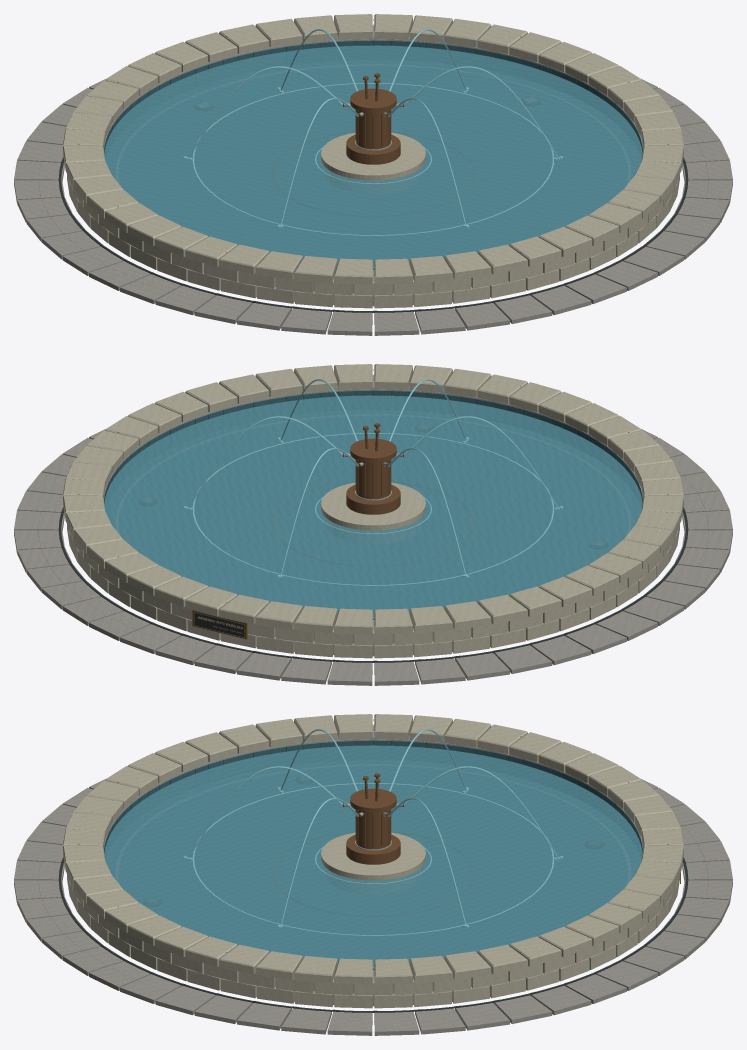
3 renders of one model, top to bottom at view 1: azimuth 30°, elevation 25°; view 2: azimuth 150°, elevation 25°; view 3: azimuth 270°, elevation 25°, orthographic.
Visible parts, largest first — view 1: VIS_Water_Surface__WATER, VIS_Ceramic_Basin_Floor__BASIN_TILE, VIS_Coping_Blocks__LIMESTONE, VIS_Plaza_Paving__PAVER, VIS_Stone_Facing_Courses__LIMESTONE, VIS_Inner_Wall_Liner__BASIN_TILE, VIS_Central_Pedestal_Cap__LIMESTONE, VIS_Flowing_Water_Arcs__SPLASH, VIS_Outer_Radial_Drain_Grille__DARK_STEEL, VIS_Inner_Tile_Finishing_Band__STEEL, VIS_Quiet_Ripple_Two__SPLASH, VIS_Bronze_Tapered_Column__BRONZE (+4 smaller); view 2: VIS_Water_Surface__WATER, VIS_Ceramic_Basin_Floor__BASIN_TILE, VIS_Coping_Blocks__LIMESTONE, VIS_Plaza_Paving__PAVER, VIS_Stone_Facing_Courses__LIMESTONE, VIS_Inner_Wall_Liner__BASIN_TILE, VIS_Central_Pedestal_Cap__LIMESTONE, VIS_Flowing_Water_Arcs__SPLASH, VIS_Outer_Radial_Drain_Grille__DARK_STEEL, VIS_Inner_Tile_Finishing_Band__STEEL, VIS_Quiet_Ripple_Two__SPLASH, VIS_Bronze_Tapered_Column__BRONZE (+5 smaller); view 3: VIS_Water_Surface__WATER, VIS_Ceramic_Basin_Floor__BASIN_TILE, VIS_Coping_Blocks__LIMESTONE, VIS_Plaza_Paving__PAVER, VIS_Stone_Facing_Courses__LIMESTONE, VIS_Inner_Wall_Liner__BASIN_TILE, VIS_Central_Pedestal_Cap__LIMESTONE, VIS_Flowing_Water_Arcs__SPLASH, VIS_Outer_Radial_Drain_Grille__DARK_STEEL, VIS_Inner_Tile_Finishing_Band__STEEL, VIS_Quiet_Ripple_Two__SPLASH, VIS_Bronze_Tapered_Column__BRONZE (+4 smaller).
Part boxes in pixels (bbox=[...]): VIS_Water_Surface__WATER: bbox=[104, 45, 642, 267]; VIS_Ceramic_Basin_Floor__BASIN_TILE: bbox=[106, 60, 640, 266]; VIS_Coping_Blocks__LIMESTONE: bbox=[63, 14, 683, 284]; VIS_Plaza_Paving__PAVER: bbox=[14, 79, 732, 335]; VIS_Stone_Facing_Courses__LIMESTONE: bbox=[67, 24, 679, 308]; VIS_Inner_Wall_Liner__BASIN_TILE: bbox=[104, 37, 642, 269]; VIS_Central_Pedestal_Cap__LIMESTONE: bbox=[321, 132, 425, 180]; VIS_Flowing_Water_Arcs__SPLASH: bbox=[188, 29, 558, 225]; VIS_Outer_Radial_Drain_Grille__DARK_STEEL: bbox=[58, 157, 688, 312]; VIS_Inner_Tile_Finishing_Band__STEEL: bbox=[103, 38, 643, 268]; VIS_Quiet_Ripple_Two__SPLASH: bbox=[192, 83, 554, 235]; VIS_Bronze_Tapered_Column__BRONZE: bbox=[356, 110, 390, 149]; VIS_Water_Surface__WATER: bbox=[104, 395, 642, 617]; VIS_Ceramic_Basin_Floor__BASIN_TILE: bbox=[106, 410, 640, 616]; VIS_Coping_Blocks__LIMESTONE: bbox=[63, 364, 683, 634]; VIS_Plaza_Paving__PAVER: bbox=[14, 429, 732, 685]; VIS_Stone_Facing_Courses__LIMESTONE: bbox=[67, 374, 679, 658]; VIS_Inner_Wall_Liner__BASIN_TILE: bbox=[104, 387, 642, 619]; VIS_Central_Pedestal_Cap__LIMESTONE: bbox=[321, 482, 425, 530]; VIS_Flowing_Water_Arcs__SPLASH: bbox=[188, 379, 558, 575]; VIS_Outer_Radial_Drain_Grille__DARK_STEEL: bbox=[58, 507, 688, 662]; VIS_Inner_Tile_Finishing_Band__STEEL: bbox=[103, 388, 643, 618]; VIS_Quiet_Ripple_Two__SPLASH: bbox=[192, 433, 554, 585]; VIS_Bronze_Tapered_Column__BRONZE: bbox=[356, 460, 390, 499]; VIS_Water_Surface__WATER: bbox=[104, 745, 642, 967]; VIS_Ceramic_Basin_Floor__BASIN_TILE: bbox=[106, 760, 640, 959]; VIS_Coping_Blocks__LIMESTONE: bbox=[63, 714, 683, 984]; VIS_Plaza_Paving__PAVER: bbox=[14, 779, 732, 1035]; VIS_Stone_Facing_Courses__LIMESTONE: bbox=[67, 724, 679, 1008]; VIS_Inner_Wall_Liner__BASIN_TILE: bbox=[104, 737, 642, 969]; VIS_Central_Pedestal_Cap__LIMESTONE: bbox=[321, 832, 425, 880]; VIS_Flowing_Water_Arcs__SPLASH: bbox=[188, 729, 558, 925]; VIS_Outer_Radial_Drain_Grille__DARK_STEEL: bbox=[58, 857, 688, 1012]; VIS_Inner_Tile_Finishing_Band__STEEL: bbox=[103, 738, 643, 968]; VIS_Quiet_Ripple_Two__SPLASH: bbox=[192, 783, 554, 935]; VIS_Bronze_Tapered_Column__BRONZE: bbox=[356, 810, 390, 849].
Bounding box in the file's own units: 10.66 × 1.93 × 10.66.
Materials: 12 (12 with a texture image).
